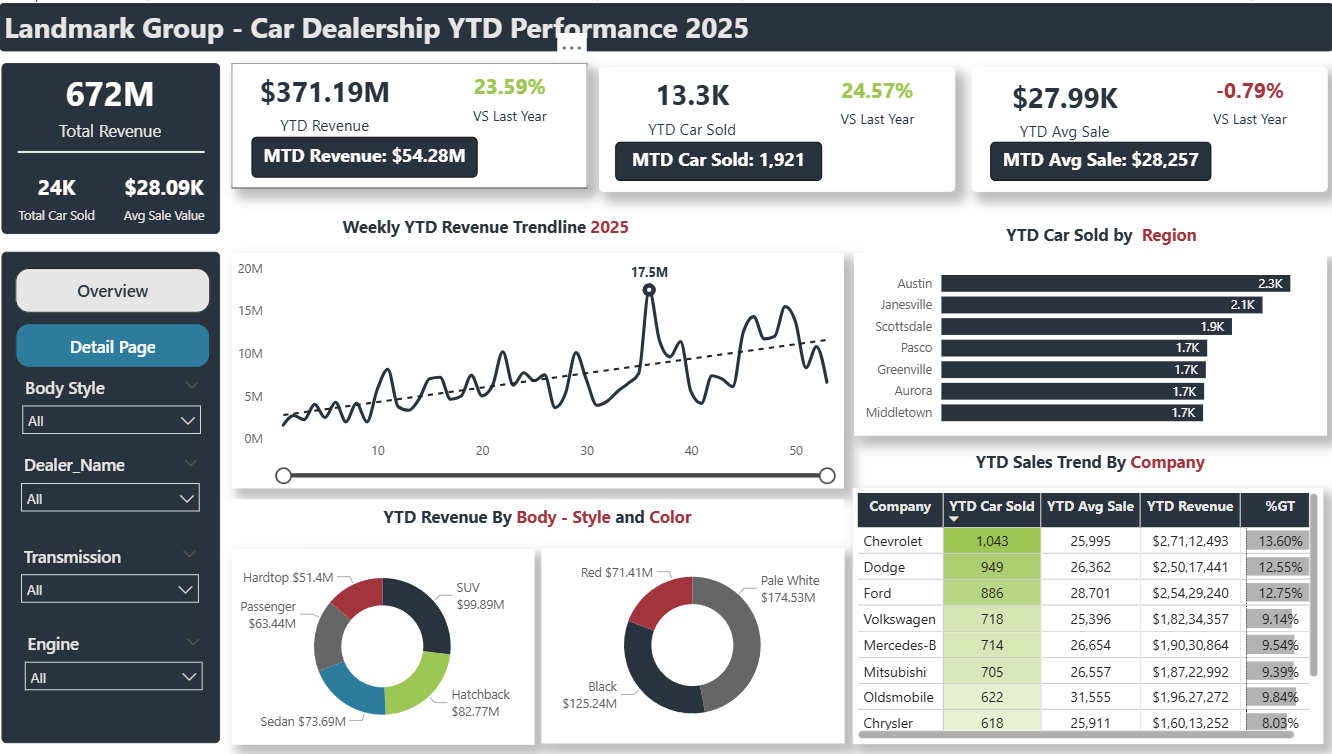

Layout of this report page (visuals, bound fields, positions):
{"tool":"powerbi","page":{"name":"Overview","canvas":[1280,720],"ordinal":0},"visuals":[{"type":"shape","box":[0,0,1280.4,46.8],"z":0},{"type":"shape","box":[222.8,57.9,341.3,120.4],"z":0,"group":"g1"},{"type":"shape","box":[574.8,60.9,341.3,120.4],"z":0,"group":"g2"},{"type":"shape","box":[932.4,60.9,341.3,120.4],"z":0,"group":"g3"},{"type":"textbox","box":[0,0,932.7,46.4],"z":1000},{"type":"card","fields":{"Values":["Measure_Table.YTD Revenue"]},"box":[241.1,60.9,143.2,68.6],"z":1000,"group":"g1"},{"type":"card","fields":{"Values":["Measure_Table.YTD Avg Sale"]},"box":[950,62,143.2,77.7],"z":1000,"group":"g3"},{"type":"card","fields":{"Values":["Measure_Table.YTD Car Sold"]},"box":[593.1,63.9,143.2,68.6],"z":1000,"group":"g2"},{"type":"shape","box":[2.4,57.5,209.7,164.2],"z":2000},{"type":"card","fields":{"Values":["Measure_Table.KPI MTD Revenue"]},"box":[241.9,128.2,216.9,38.9],"z":2000,"group":"g1"},{"type":"card","fields":{"Values":["Measure_Table.KPI MTD Car Sold"]},"box":[590.1,132.4,198.1,37.6],"z":2000,"group":"g2"},{"type":"card","fields":{"Values":["Measure_Table.KPI MTD Avg Sale"]},"box":[950.7,132.4,211.9,37.6],"z":2000,"group":"g3"},{"type":"card","fields":{"Values":["Measure_Table.YoY Revenue%"]},"box":[417.8,60.9,143.2,57.9],"z":3000,"group":"g1"},{"type":"card","fields":{"Values":["Measure_Table.YoY Car Sold%"]},"box":[769.8,63.9,143.2,57.9],"z":3000,"group":"g2"},{"type":"card","fields":{"Values":["Measure_Table.YoY Avg Sale%"]},"box":[1127.4,63.9,143.2,57.9],"z":3000,"group":"g3"},{"type":"shape","box":[2.4,238.5,209.7,471],"z":3000},{"type":"card","fields":{"Values":["Measure_Table.Total revenue"]},"box":[10.7,56.4,192,83.8],"z":4000},{"type":"card","fields":{"Values":["Measure_Table.Total Car Sold"]},"box":[3,156.9,103.6,59.4],"z":5000},{"type":"card","fields":{"Values":["Measure_Table.Avg Rev per Sale"]},"box":[106.6,156.9,103.6,59.4],"z":6000},{"type":"shape","box":[17.6,69,179.3,146.7],"z":7000},{"type":"group","id":"g1","title":"Group 1","box":[222.8,57.9,341.3,120.4],"z":8000},{"type":"group","id":"g2","title":"Group 1","box":[574.8,60.9,341.3,120.4],"z":9000},{"type":"group","id":"g3","title":"Group 1","box":[932.4,60.9,341.3,120.4],"z":10000},{"type":"lineChart","title":"Weekly YTD Revenue Trendline","fields":{"Y":["Measure_Table.Revenue","Measure_Table.Max Point"],"Category":["Calender_table.Week of the Year"]},"box":[222.9,239.7,587.3,225.3],"z":11000},{"type":"donutChart","fields":{"Y":["Measure_Table.YTD Revenue"],"Category":["car_data.Body Style"]},"box":[222.9,523.7,290,187],"z":12000},{"type":"textbox","box":[222.4,198.1,487.5,36.6],"z":13000},{"type":"textbox","box":[222.6,476.1,586.9,38.3],"z":14000},{"type":"donutChart","fields":{"Y":["Measure_Table.YTD Revenue"],"Category":["car_data.Color"]},"box":[520.1,522.5,290,187],"z":15000},{"type":"barChart","fields":{"Category":["car_data.Dealer_Region"],"Y":["Measure_Table.YTD Car Sold"]},"box":[819.6,239.2,454,175.2],"z":16000},{"type":"textbox","box":[819.6,196.5,450.9,36.6],"z":17000},{"type":"pivotTable","fields":{"Rows":["car_data.Company"],"Values":["Measure_Table.YTD Car Sold","Measure_Table.YTD Avg Sale","Measure_Table.YTD Revenue1","Measure_Table.YTD Revenue"]},"box":[818.8,464.6,451.3,245.6],"z":18000},{"type":"textbox","box":[818.9,423,451,36.4],"z":19000},{"type":"slicer","fields":{"Values":["car_data.Body Style"]},"box":[12,352.4,191.8,63.5],"z":20000},{"type":"textbox","box":[829.1,206.5,450.9,36.6],"z":21000},{"type":"slicer","fields":{"Values":["car_data.Dealer_Name"]},"box":[11.3,426.2,191.8,63.9],"z":22000},{"type":"slicer","fields":{"Values":["car_data.Engine"]},"box":[13.8,598,190.6,63.9],"z":23000},{"type":"slicer","fields":{"Values":["car_data.Transmission"]},"box":[11.3,514,190.6,63.9],"z":24000},{"type":"pageNavigator","box":[15.2,254.4,187.4,97.5],"z":25000}]}

Visuals, with their boxes in screenshot pixels (x1, y1, x2, y2), scaled from the page's 1280x720 canvas onto the 1332x754 screenshot:
shape: (0,0,1331,49)
shape: (232,61,587,187)
shape: (598,64,953,190)
shape: (970,64,1325,190)
textbox: (0,0,971,49)
card - Measure_Table.YTD Revenue: (251,64,400,136)
card - Measure_Table.YTD Avg Sale: (989,65,1138,146)
card - Measure_Table.YTD Car Sold: (617,67,766,139)
shape: (2,60,221,232)
card - Measure_Table.KPI MTD Revenue: (252,134,477,175)
card - Measure_Table.KPI MTD Car Sold: (614,139,820,178)
card - Measure_Table.KPI MTD Avg Sale: (989,139,1210,178)
card - Measure_Table.YoY Revenue%: (435,64,584,124)
card - Measure_Table.YoY Car Sold%: (801,67,950,128)
card - Measure_Table.YoY Avg Sale%: (1173,67,1322,128)
shape: (2,250,221,743)
card - Measure_Table.Total revenue: (11,59,211,147)
card - Measure_Table.Total Car Sold: (3,164,111,227)
card - Measure_Table.Avg Rev per Sale: (111,164,219,227)
shape: (18,72,205,226)
"Group 1" group: (232,61,587,187)
"Group 1" group: (598,64,953,190)
"Group 1" group: (970,64,1325,190)
"Weekly YTD Revenue Trendline" lineChart: (232,251,843,487)
donutChart - Measure_Table.YTD Revenue x car_data.Body Style: (232,548,534,744)
textbox: (231,207,739,246)
textbox: (232,499,842,539)
donutChart - Measure_Table.YTD Revenue x car_data.Color: (541,547,843,743)
barChart - car_data.Dealer_Region x Measure_Table.YTD Car Sold: (853,250,1325,434)
textbox: (853,206,1322,244)
pivotTable - car_data.Company x Measure_Table.YTD Car Sold: (852,487,1322,744)
textbox: (852,443,1321,481)
slicer - car_data.Body Style: (12,369,212,436)
textbox: (863,216,1331,255)
slicer - car_data.Dealer_Name: (12,446,211,513)
slicer - car_data.Engine: (14,626,213,693)
slicer - car_data.Transmission: (12,538,210,605)
pageNavigator: (16,266,211,369)
